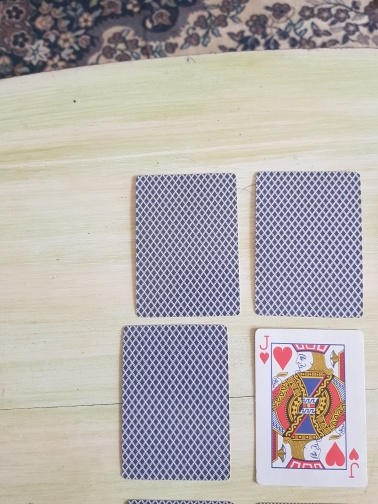jack: (254, 328, 368, 488)
